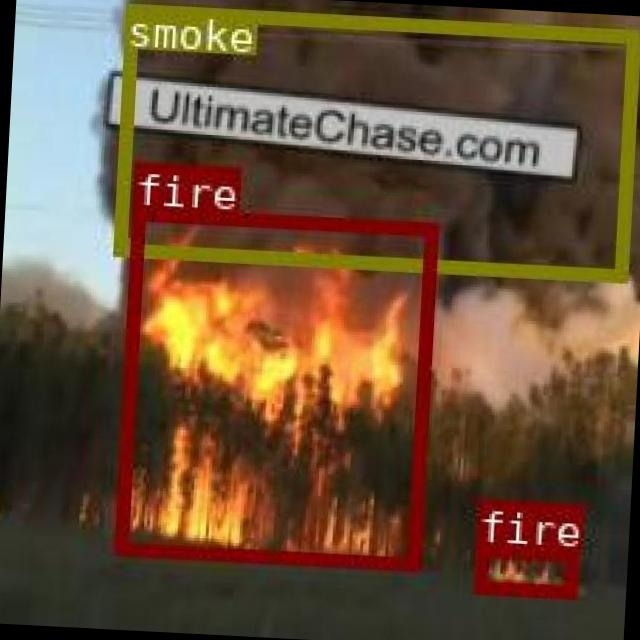fire: (114, 207, 434, 567), (472, 544, 575, 596)
smoke: (111, 3, 638, 281)
